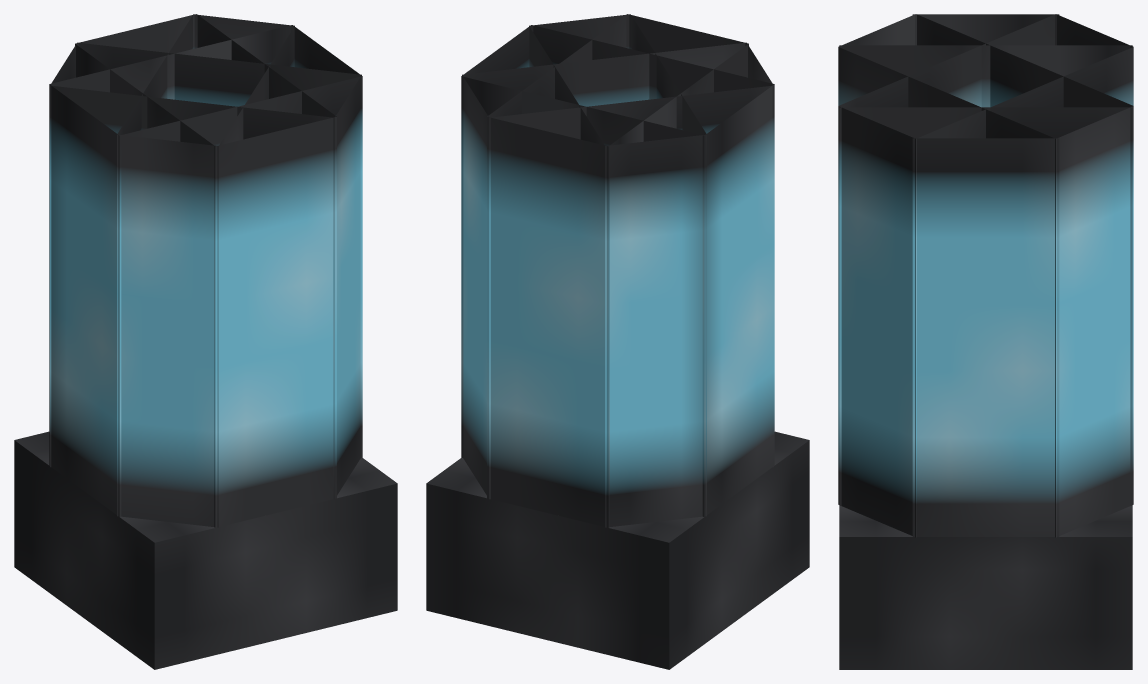
The model's file is centrifuge_core.obj.
The picture shows the model from 3 angles, left to right: view 1: azimuth 30°, elevation 25°; view 2: azimuth 150°, elevation 25°; view 3: azimuth 270°, elevation 25°; orthographic projection. The views are drawn at different scales.
Visible parts, largest first — view 1: cube; view 2: cube; view 3: cube.
Boxes of the visible parts, bbox=[...] form: cube: bbox=[14, 14, 397, 669]; cube: bbox=[426, 14, 809, 669]; cube: bbox=[838, 14, 1133, 669].
Size of the model in its own units: 4.03 by 8 by 4.03.
